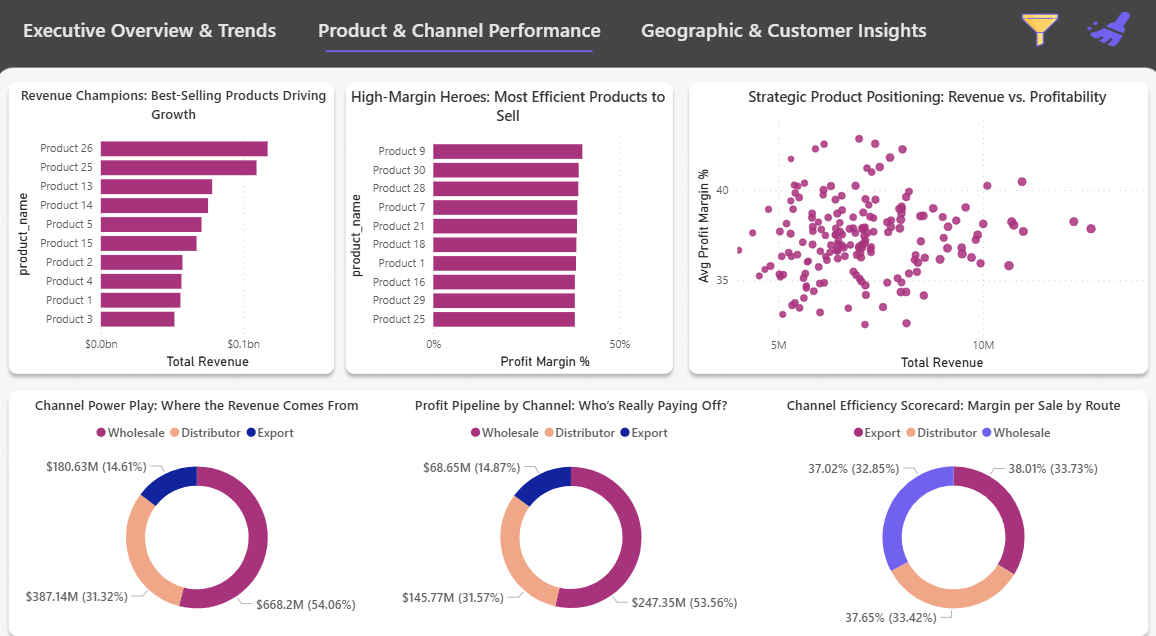

Layout of this report page (visuals, bound fields, positions):
{"tool":"powerbi","page":{"name":"Product & Channel Performance","canvas":[1280,720],"ordinal":1},"visuals":[{"type":"barChart","title":"Revenue Champions: Best-Selling Products Driving Growth","fields":{"Category":["Sales_data.product_name"],"Y":["Measures_.Total Revenue"]},"box":[16,103,357,316],"z":0},{"type":"scatterChart","title":"Strategic Product Positioning: Revenue vs. Profitability","fields":{"X":["Customer Summary.Total Revenue"],"Y":["Customer Summary.Avg Profit Margin %"],"Size":["Sum(Customer Summary.Order Count)"]},"box":[764,103,516,317],"z":1000},{"type":"barChart","title":"High-Margin Heroes: Most Efficient Products to Sell","fields":{"Category":["Sales_data.product_name"],"Y":["Measures_.Profit Margin %"]},"box":[382,103,361,316],"z":2000},{"type":"donutChart","title":"Channel Power Play: Where the Revenue Comes From","fields":{"Category":["Sales_data.channel"],"Y":["Measures_.Total Revenue"]},"box":[16.7,443.3,408.3,261.7],"z":3000},{"type":"donutChart","title":"Profit Pipeline by Channel: Who’s Really Paying Off?","fields":{"Category":["Sales_data.channel"],"Y":["Measures_.Total Profit"]},"box":[436.7,443.3,390,261.7],"z":4000},{"type":"donutChart","title":"Channel Efficiency Scorecard: Margin per Sale by Route","fields":{"Category":["Sales_data.channel"],"Y":["Measures_.Profit Margin %"]},"box":[843.3,443.3,415,261.7],"z":5000},{"type":"actionButton","box":[337.2,14.1,342.3,55.1],"z":6000},{"type":"actionButton","box":[9,14.1,317.9,55.1],"z":7000},{"type":"actionButton","box":[695,13.8,341.2,55],"z":8000},{"type":"actionButton","box":[1188,14,70,55],"z":9000},{"type":"actionButton","box":[1120,21,53,42],"z":10000}]}

Visuals, with their boxes in screenshot pixels (x1, y1, x2, y2), scaled from the page's 1280x720 canvas onto the 1156x636 screenshot:
"Revenue Champions: Best-Selling Products Driving Growth" barChart: <bbox>14, 91, 337, 370</bbox>
"Strategic Product Positioning: Revenue vs. Profitability" scatterChart: <bbox>690, 91, 1155, 371</bbox>
"High-Margin Heroes: Most Efficient Products to Sell" barChart: <bbox>345, 91, 671, 370</bbox>
"Channel Power Play: Where the Revenue Comes From" donutChart: <bbox>15, 392, 384, 623</bbox>
"Profit Pipeline by Channel: Who’s Really Paying Off?" donutChart: <bbox>394, 392, 747, 623</bbox>
"Channel Efficiency Scorecard: Margin per Sale by Route" donutChart: <bbox>762, 392, 1136, 623</bbox>
actionButton: <bbox>305, 12, 614, 61</bbox>
actionButton: <bbox>8, 12, 295, 61</bbox>
actionButton: <bbox>628, 12, 936, 61</bbox>
actionButton: <bbox>1073, 12, 1136, 61</bbox>
actionButton: <bbox>1012, 19, 1059, 56</bbox>
